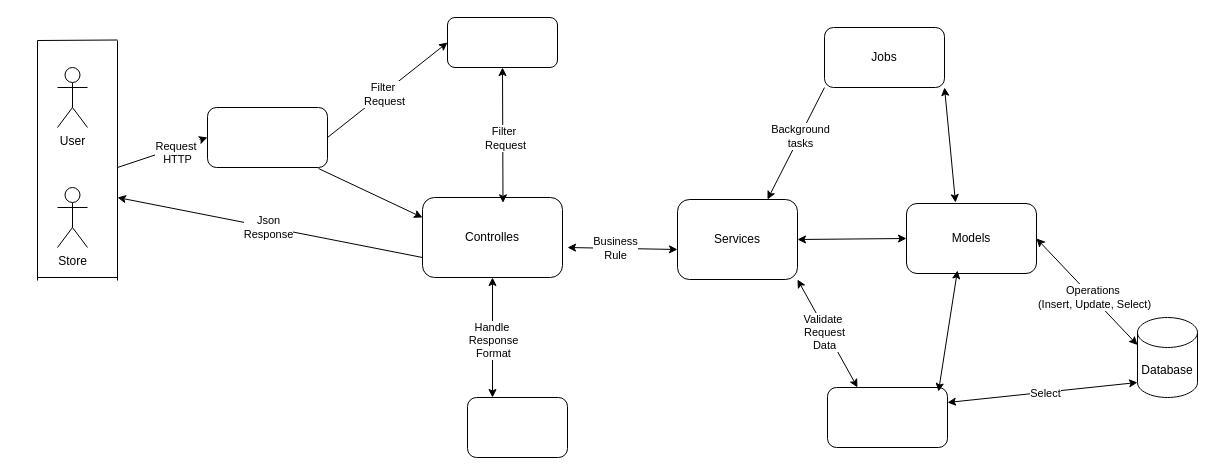
This 1215x475 diagram has some shape labels left out. Each missing label, with the centre of its shape:
"Middlewares" belongs at point (502, 42).
"Resources" belongs at point (517, 427).
"Routes" belongs at point (267, 137).
"Validators" belongs at point (887, 417).
